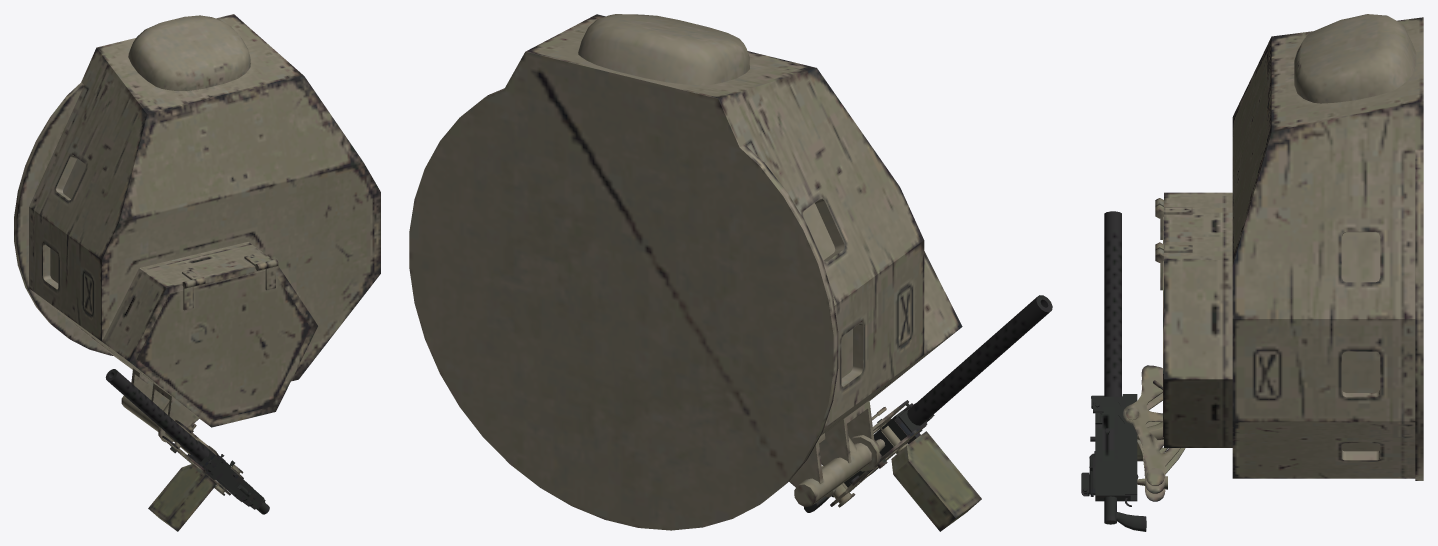
File: Turret_02.glb
3 renders of one model, left to right at view 1: azimuth 30°, elevation 25°; view 2: azimuth 150°, elevation 25°; view 3: azimuth 270°, elevation 25°, orthographic. The views are drawn at different scales.
Visible parts, largest first — view 1: set_0_group_0; view 2: set_0_group_0; view 3: set_0_group_0.
Boxes of the visible parts, <box> form: set_0_group_0: <box>14,14,380,531</box>; set_0_group_0: <box>409,14,1052,531</box>; set_0_group_0: <box>1081,14,1423,531</box>.
Size of the model in its own units: 1.51 by 1.76 by 1.07.
Materials: 1 (1 with a texture image).
